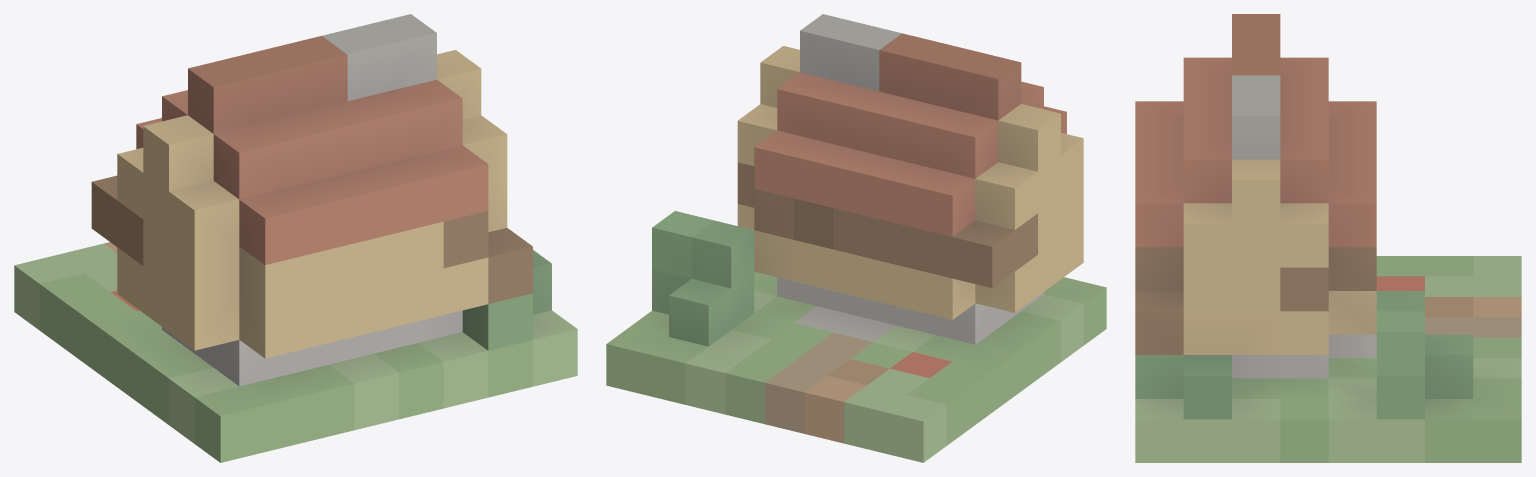
File: orchard.lite.glb
The picture shows the model from 3 angles, left to right: view 1: azimuth 30°, elevation 25°; view 2: azimuth 150°, elevation 25°; view 3: azimuth 270°, elevation 25°; orthographic projection. The views are drawn at different scales.
Visible parts, largest first — view 1: orchard; view 2: orchard; view 3: orchard.
Boxes of the visible parts, <box> form: orchard: <box>14,14,577,462</box>; orchard: <box>606,14,1106,462</box>; orchard: <box>1135,14,1521,462</box>.
Bounding box in the file's own units: 4 × 3.5 × 4.
